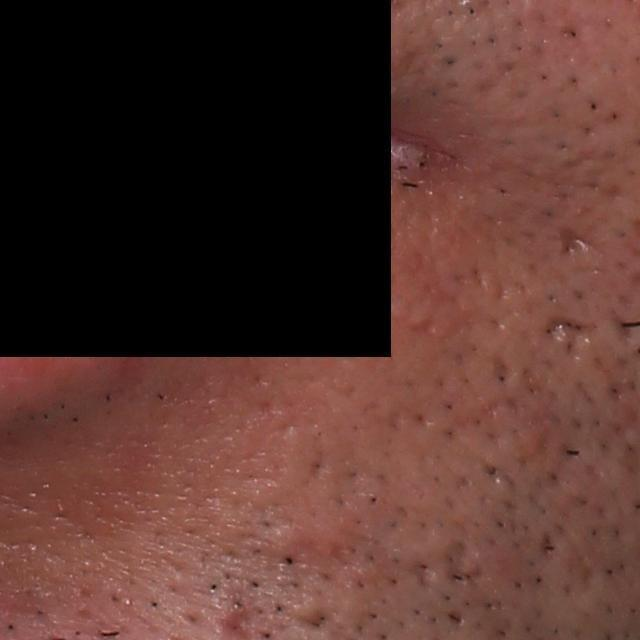atrophic_scar: (440, 530, 488, 598), (283, 603, 341, 636), (557, 223, 602, 261), (544, 318, 602, 347)
